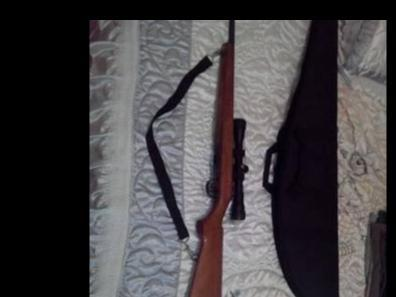larga: (185, 21, 249, 297)
